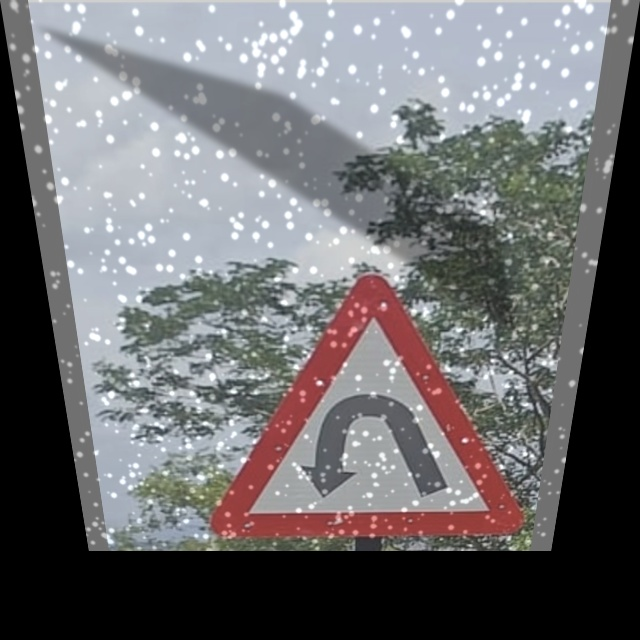Left_Hair_Pin_Bend: (191, 264, 564, 536)
